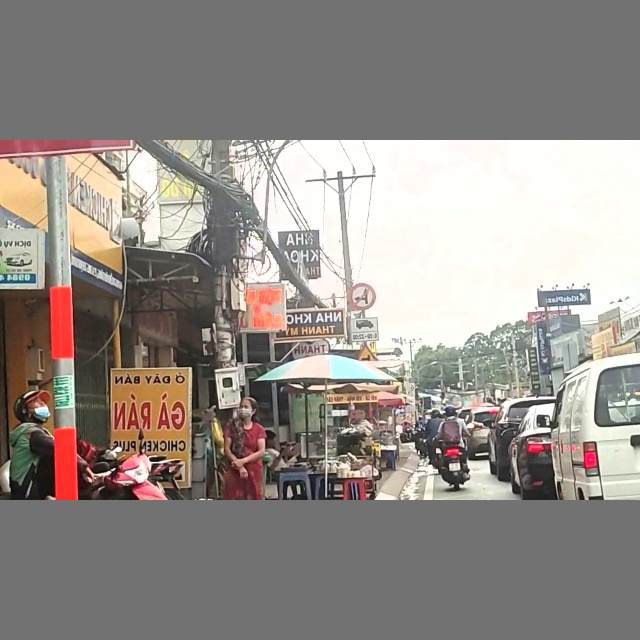P.139: (346, 282, 375, 311)
S.505a*Xe tai: (347, 316, 378, 339)
W.205b: (345, 348, 382, 362)
